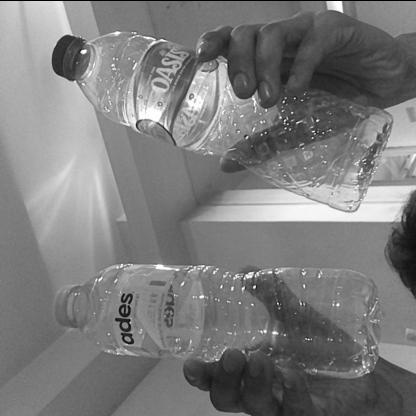plastic_bottles: (52, 32, 390, 212), (51, 266, 378, 378)
